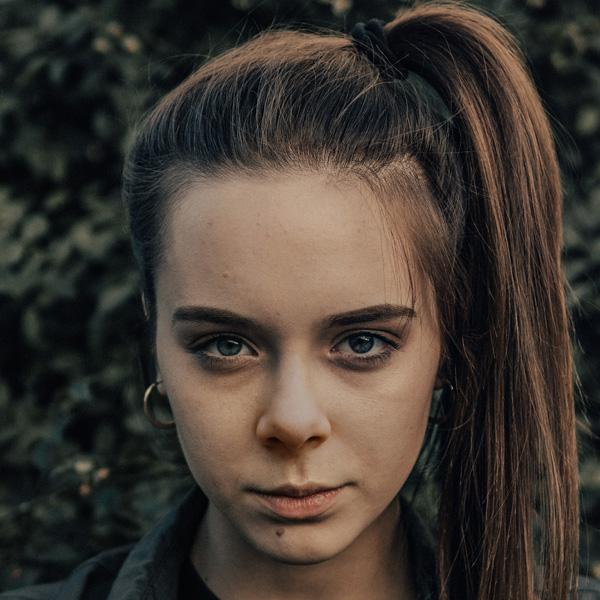Eyes: (318, 319, 409, 372), (181, 322, 264, 379)
